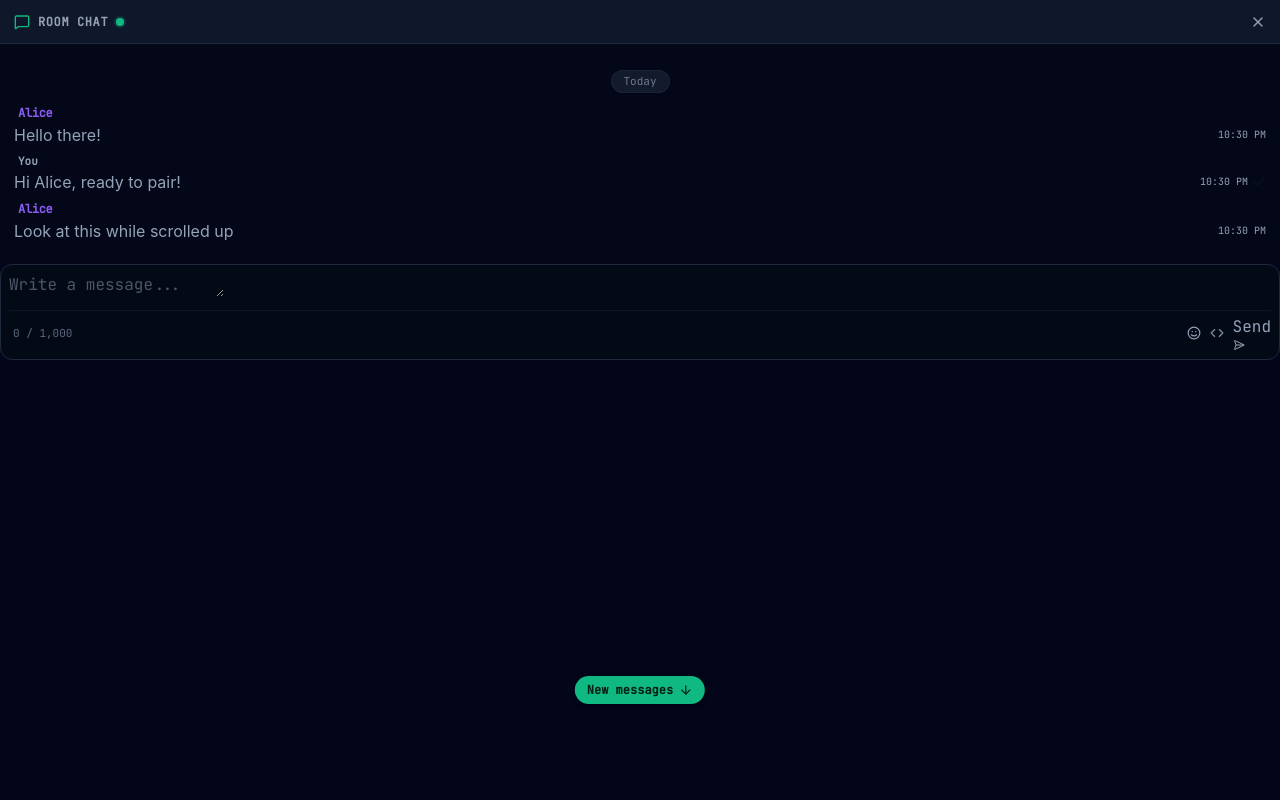
Scenario: ChatPanel component › displays new-messages pill when user is scrolled up and scrolls to bottom on click
(page scrolled)
Click the button with test id "new-messages-pill".
click(640, 690)  # box top-left (575, 676), bottom-right (705, 704)
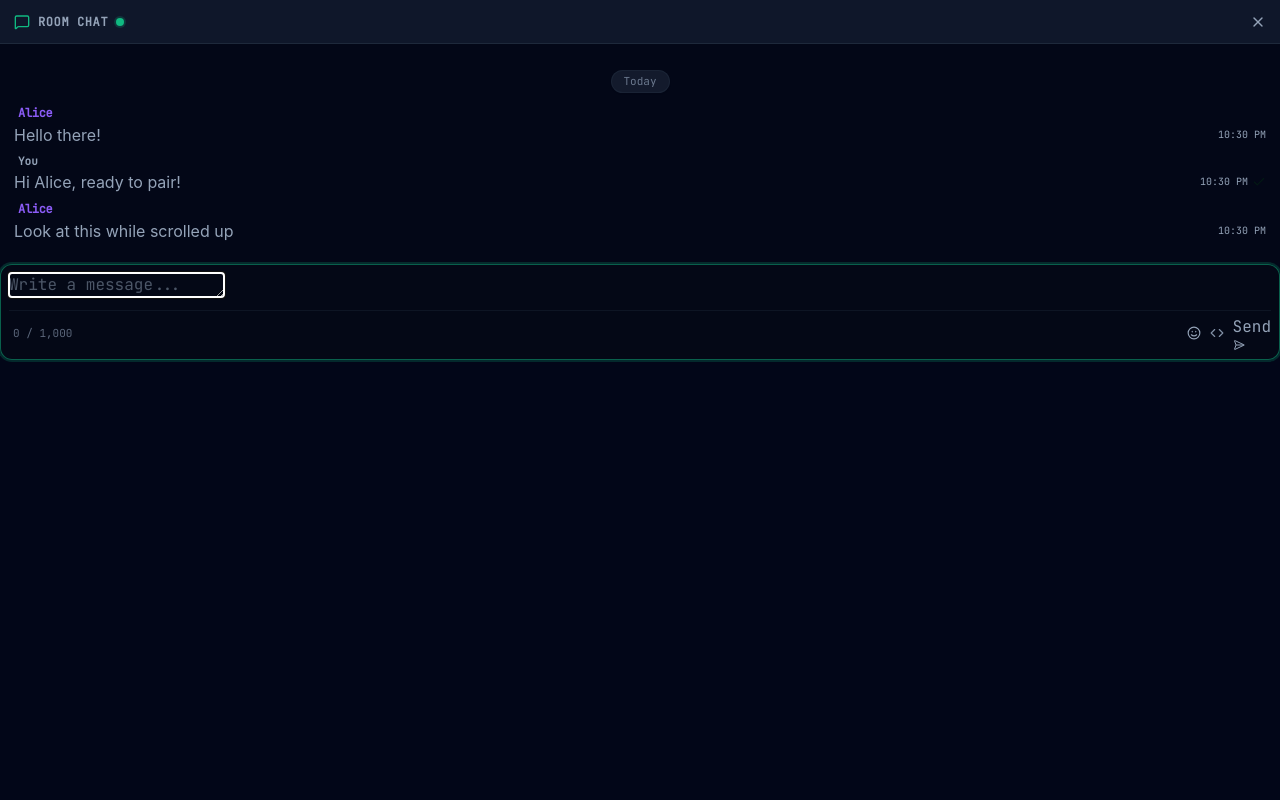
Now the button with test id "new-messages-pill" is gone
